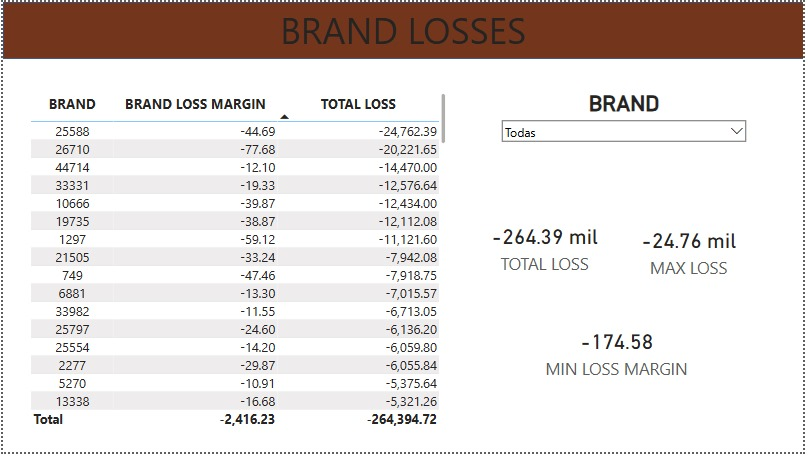

This screenshot's page, from the dashboard's own definition file:
{"tool":"powerbi","page":{"name":"Brand Losses","canvas":[1600,900],"ordinal":3},"visuals":[{"type":"shape","box":[0,0,3100,113.8],"z":0},{"type":"textbox","box":[475,0,647.5,115],"z":1000},{"type":"tableEx","fields":{"Values":["BRANDS_LOSS.BRAND","Sum(BRANDS_LOSS.BRAND_PROFIT_MARGIN)","Sum(BRANDS_LOSS.BRAND_TOTAL_PROFIT)"]},"box":[50,177.5,840,677.5],"z":2000},{"type":"card","fields":{"Values":["Sum(BRANDS_LOSS.BRAND_TOTAL_PROFIT)"]},"box":[957.5,412.5,250,150],"z":3000},{"type":"card","fields":{"Values":["Min(BRANDS_LOSS.BRAND_TOTAL_PROFIT)"]},"box":[1245,420,250,150],"z":4000},{"type":"card","fields":{"Values":["Min(BRANDS_LOSS.BRAND_PROFIT_MARGIN)"]},"box":[957.5,622.5,537.5,150],"z":5000},{"type":"slicer","title":"BRAND","fields":{"Values":["BRANDS_LOSS.BRAND"]},"box":[987.5,177.5,507.5,147.5],"z":6000}]}

Visuals, with their boxes in screenshot pixels (x1, y1, x2, y2), scaled from the page's 1600x900 canvas onto the 808x456 screenshot:
shape: [0,0,807,58]
textbox: [240,0,567,58]
tableEx - BRANDS_LOSS.BRAND x Sum(BRANDS_LOSS.BRAND_PROFIT_MARGIN): [25,90,449,433]
card - Sum(BRANDS_LOSS.BRAND_TOTAL_PROFIT): [484,209,610,285]
card - Min(BRANDS_LOSS.BRAND_TOTAL_PROFIT): [629,213,755,289]
card - Min(BRANDS_LOSS.BRAND_PROFIT_MARGIN): [484,315,755,391]
"BRAND" slicer: [499,90,755,165]
